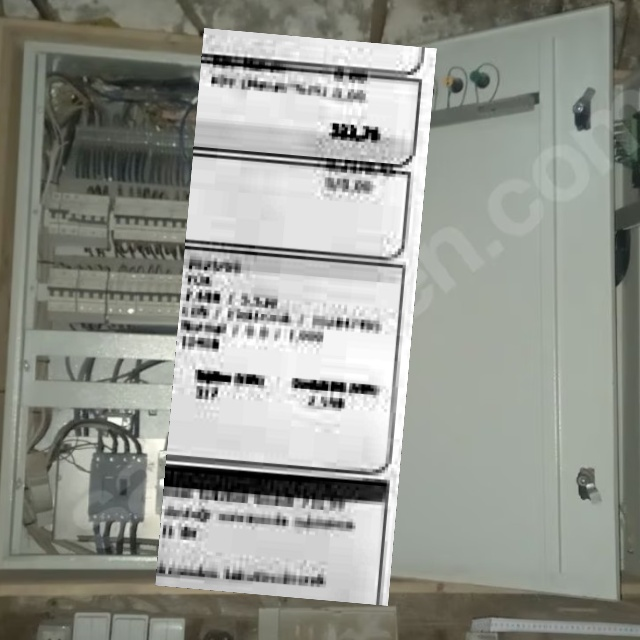electricity-bill: (155, 27, 437, 605)
